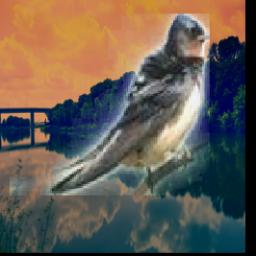Swallow: (10, 14, 210, 195)
